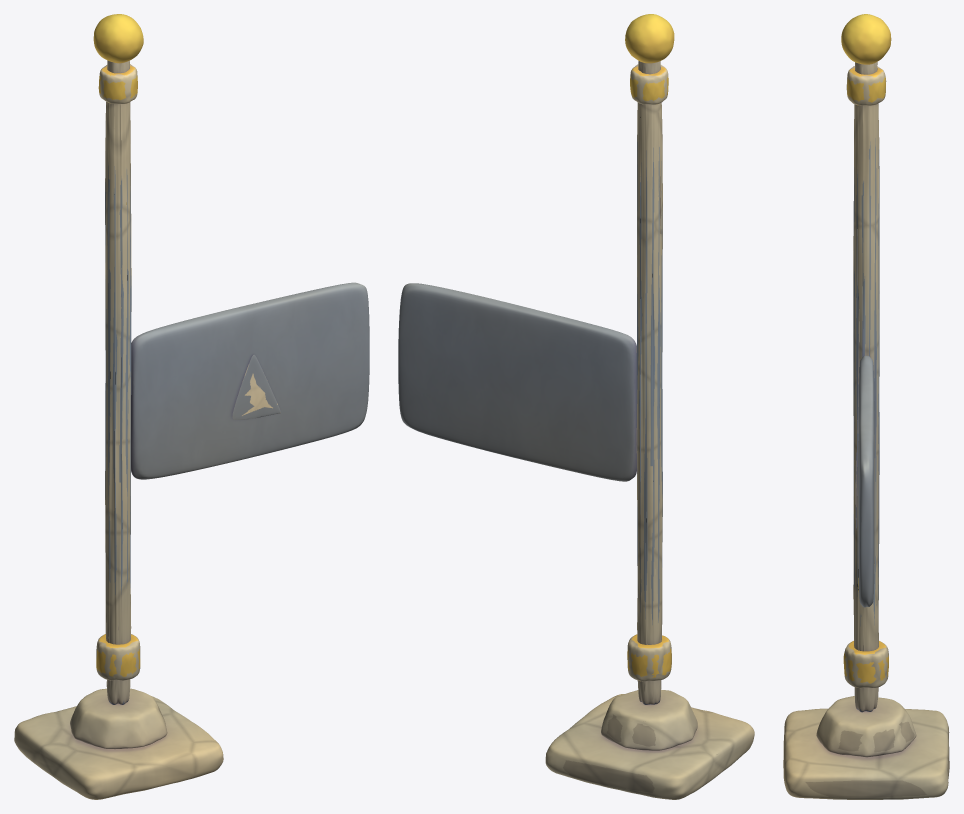
File: G01_Checkpoint.fbx
The picture shows the model from 3 angles, left to right: view 1: azimuth 30°, elevation 25°; view 2: azimuth 150°, elevation 25°; view 3: azimuth 270°, elevation 25°; orthographic projection.
Parts seen in each view (by area): view 1: G01_Checkpoint_Banner, G01_Checkpoint; view 2: G01_Checkpoint_Banner, G01_Checkpoint; view 3: G01_Checkpoint, G01_Checkpoint_Banner.
Part boxes in pixels (x1,y1,x2,y2): G01_Checkpoint_Banner: (131,282,369,479); G01_Checkpoint: (14,14,223,799); G01_Checkpoint_Banner: (398,283,636,481); G01_Checkpoint: (545,14,754,799); G01_Checkpoint: (783,14,949,799); G01_Checkpoint_Banner: (855,355,874,607).
Bounding box in the file's own units: 1.35 × 3 × 0.6.
